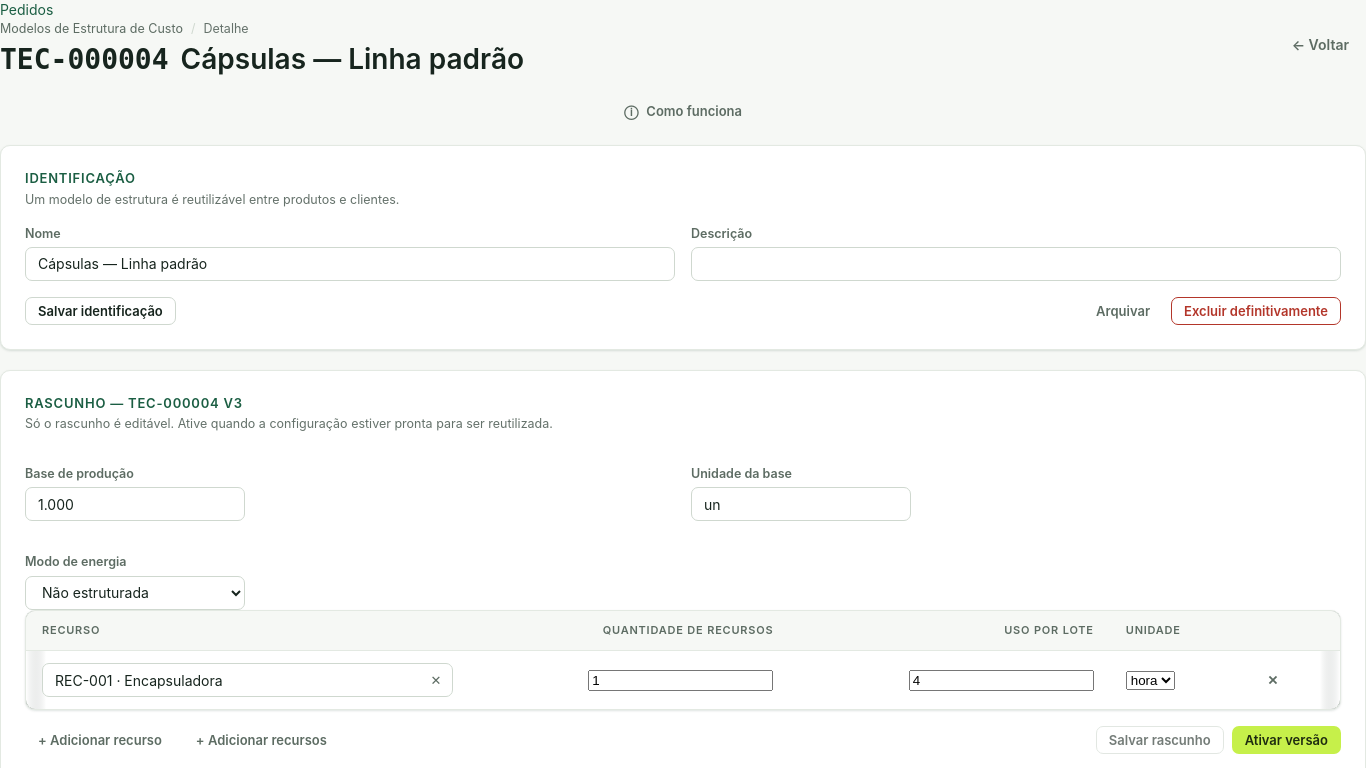
Test case: Modelo de Estrutura de Custo — guarda de alterações não salvas › alterar o nome também pergunta, e desfazer limpa
Expected: the field labelled "Base de produção" is shown, [25,487,245,521]
Replace the text in the field labelled "Nome" with "Cápsulas — Linha nova" at coordinates (350, 264), box [25,247,675,281]
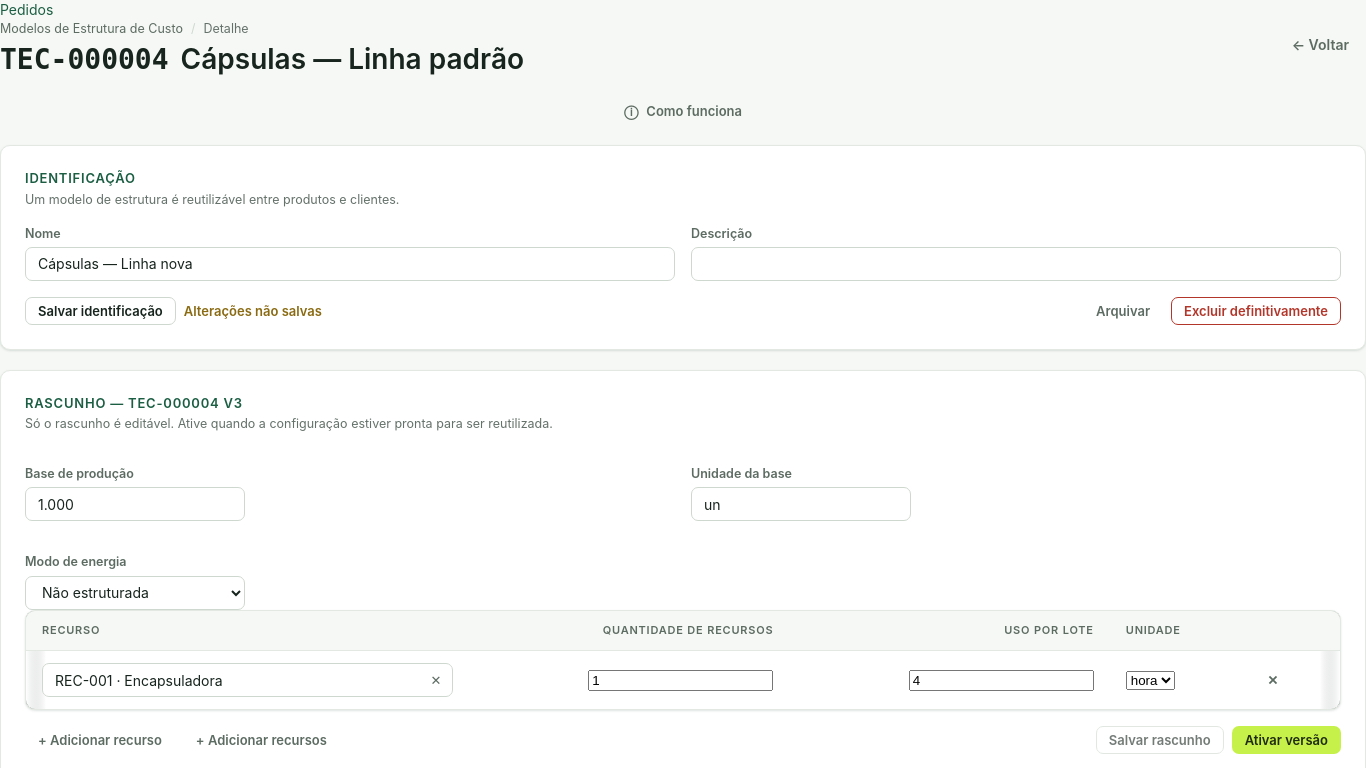
Click the link "Pedidos" at coordinates (27, 10), box [0,1,53,18]
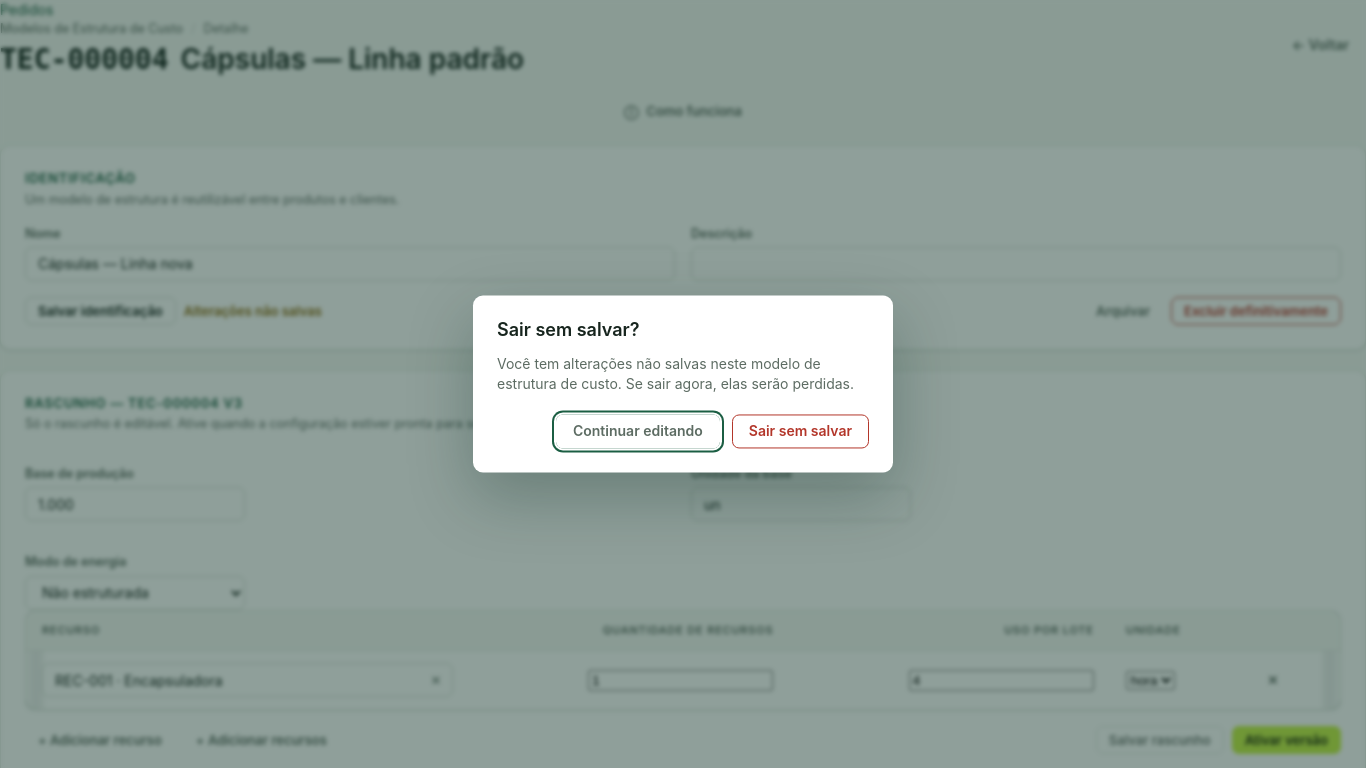
Now the heading "Sair sem salvar?" is shown, box [497,320,640,340]
Click the button "Continuar editando" at coordinates (638, 432), box [556,414,720,448]
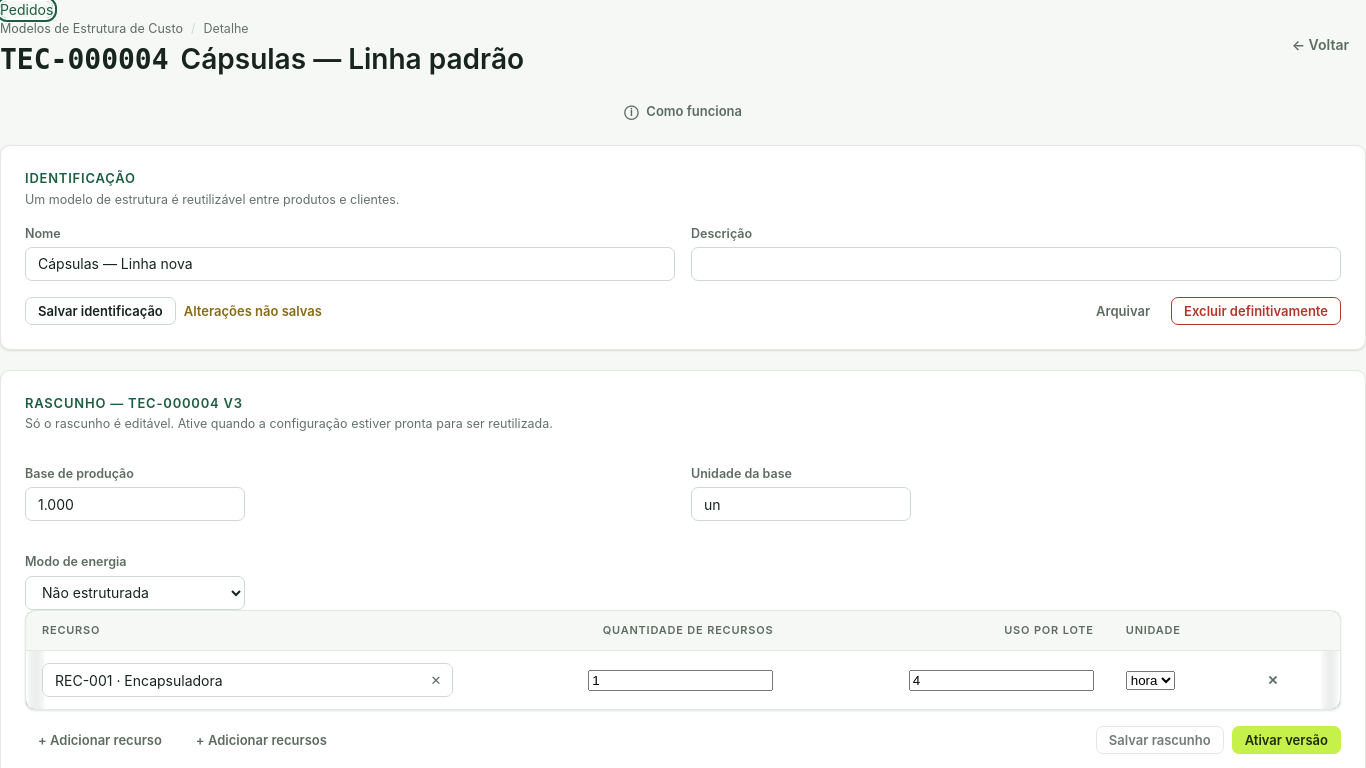
Replace the text in the field labelled "Nome" with "Cápsulas — Linha padrão" at coordinates (350, 264), box [25,247,675,281]
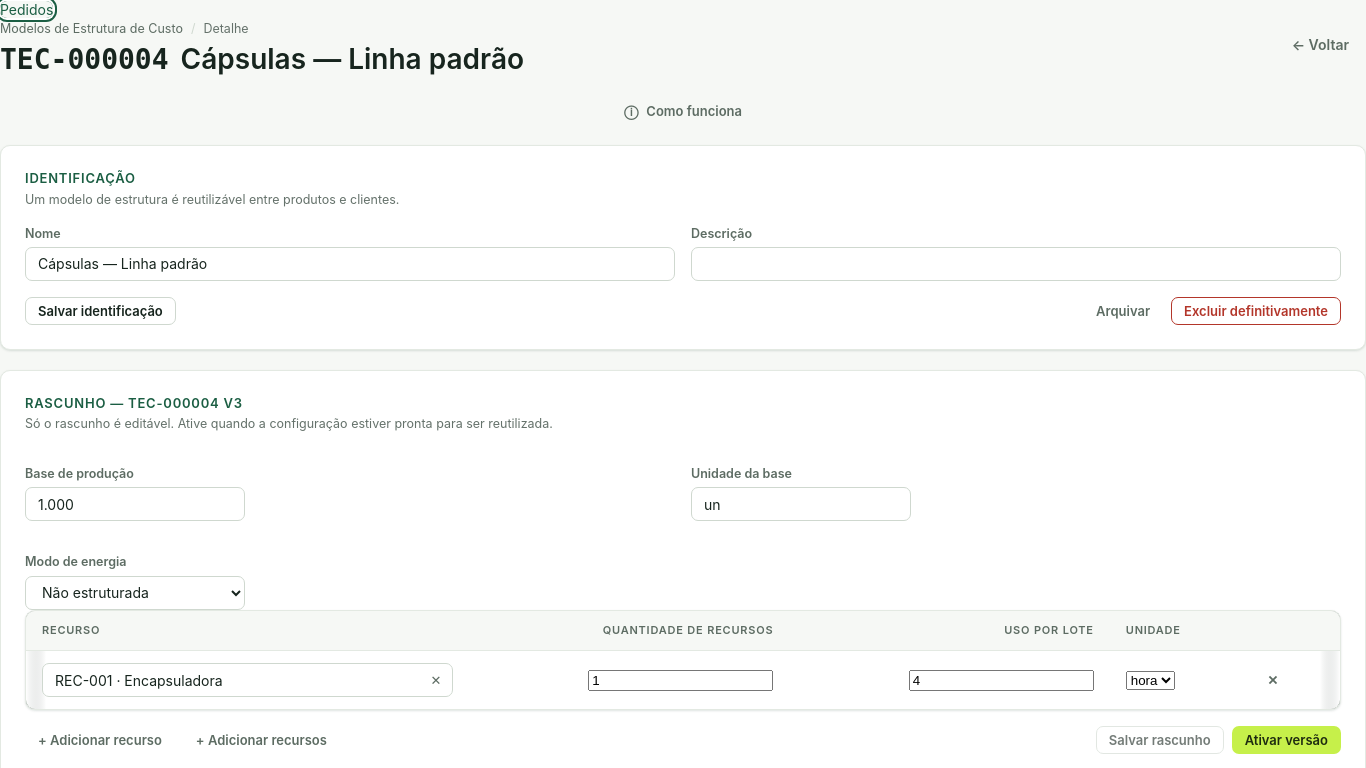
Click the link "Pedidos" at coordinates (27, 10), box [0,1,53,18]
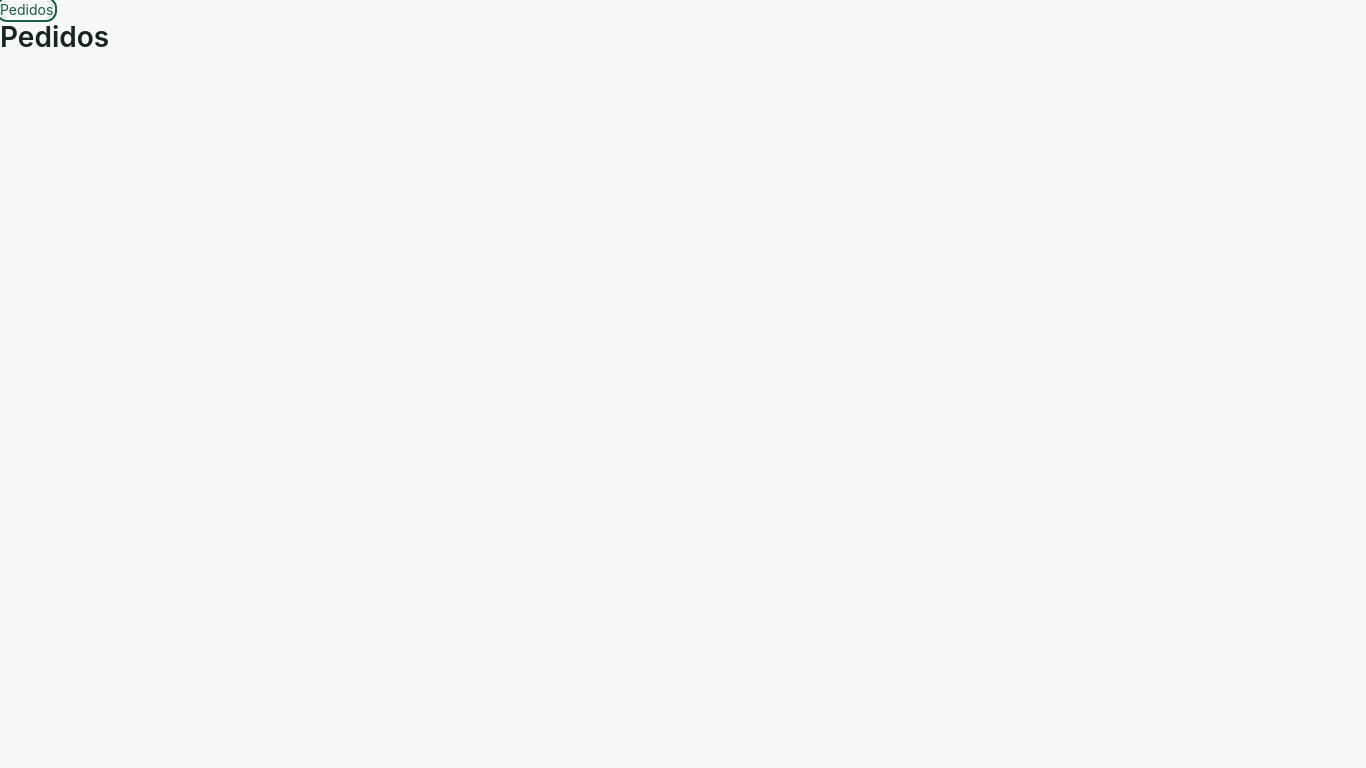
Now the heading "Pedidos" is shown, box [0,20,109,54]
